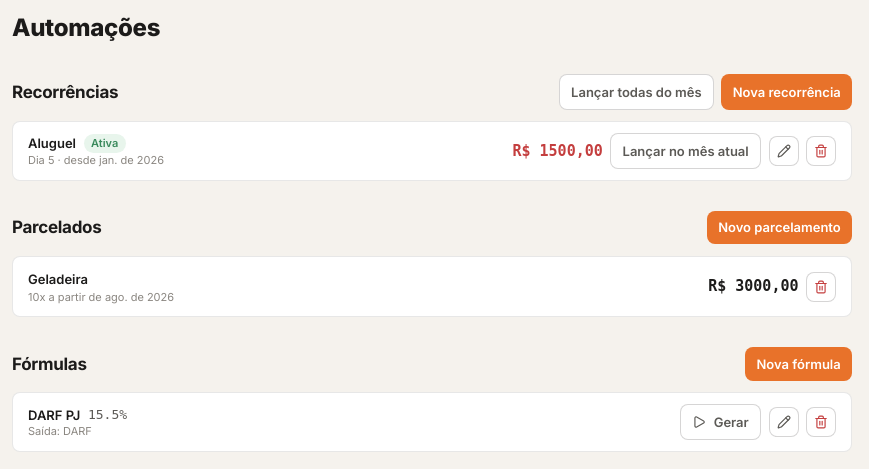
FinanceAutomationsPage › launches a single recurrence in the current real month
Expected: the heading "Recorrências" is shown, [12,79,118,105]
Click the button "Lançar no mês atual". click: (686, 151)
box: [610,133,761,169]
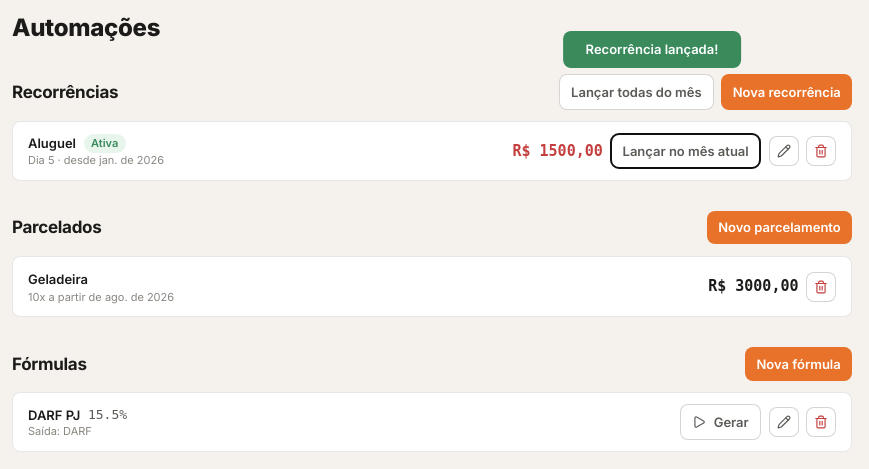
Now the message reads "Recorrência lançada!", box [586,41,718,57]
